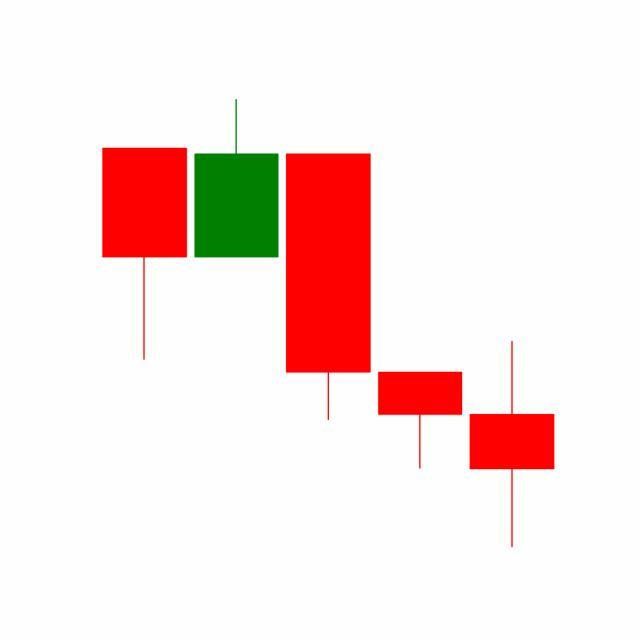Hammer: (374, 370, 468, 471)
